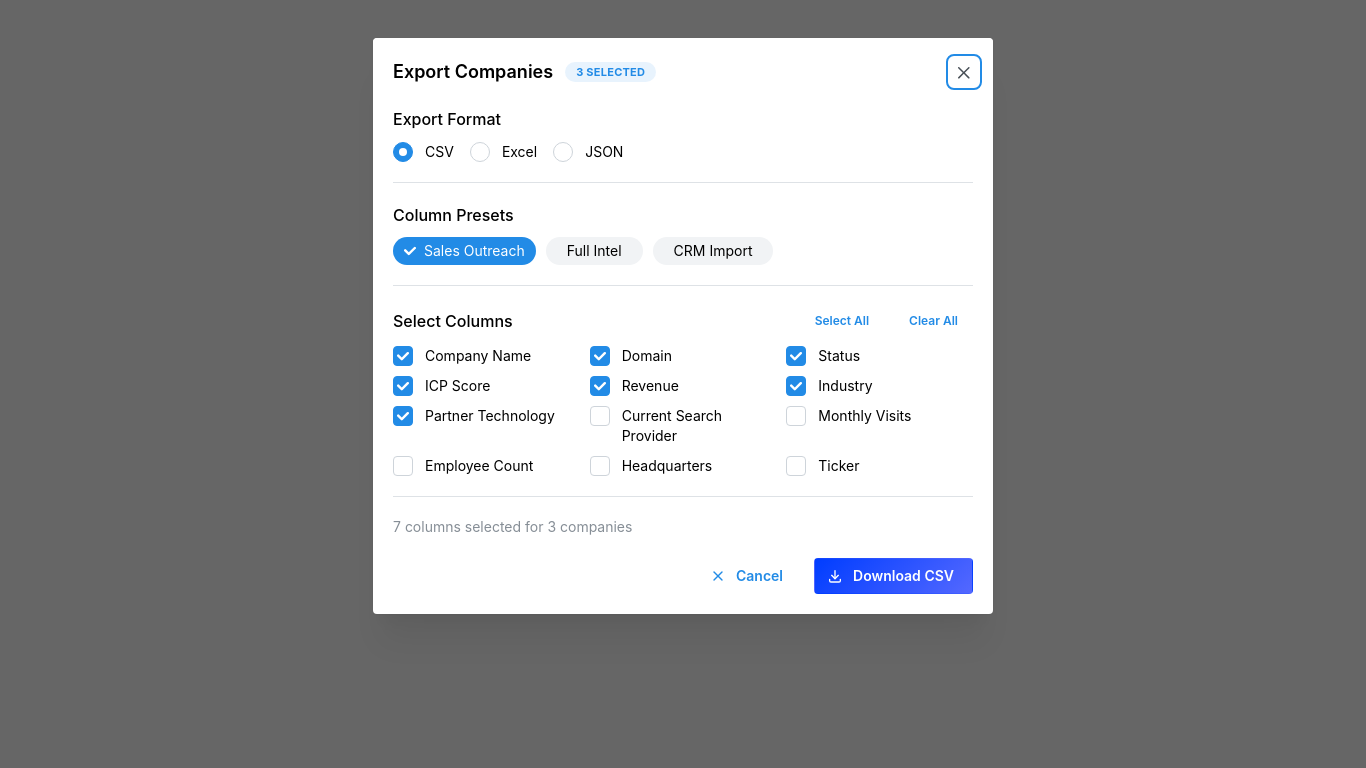
it: ExportModal column selection › select all button selects all columns
The width and height of the screenshot is (1366, 768).
Click the button "Select All" at (842, 322), box [800,307,884,337]
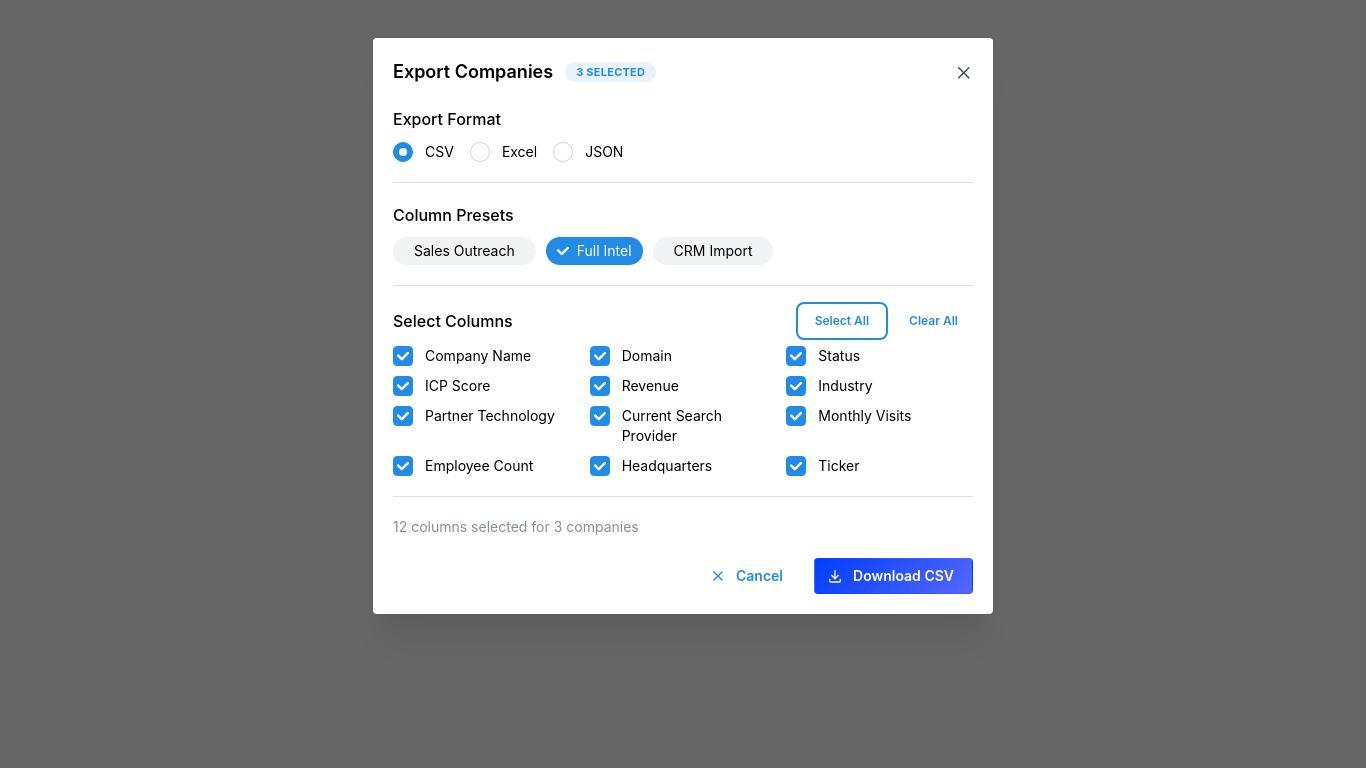
Expected: the checkbox labelled "Company Name" is checked, [393,347,413,367]
Result: the checkbox labelled "Ticker" is checked at [786,457,806,477]
Result: the checkbox labelled "Headquarters" is checked at [590,457,610,477]
